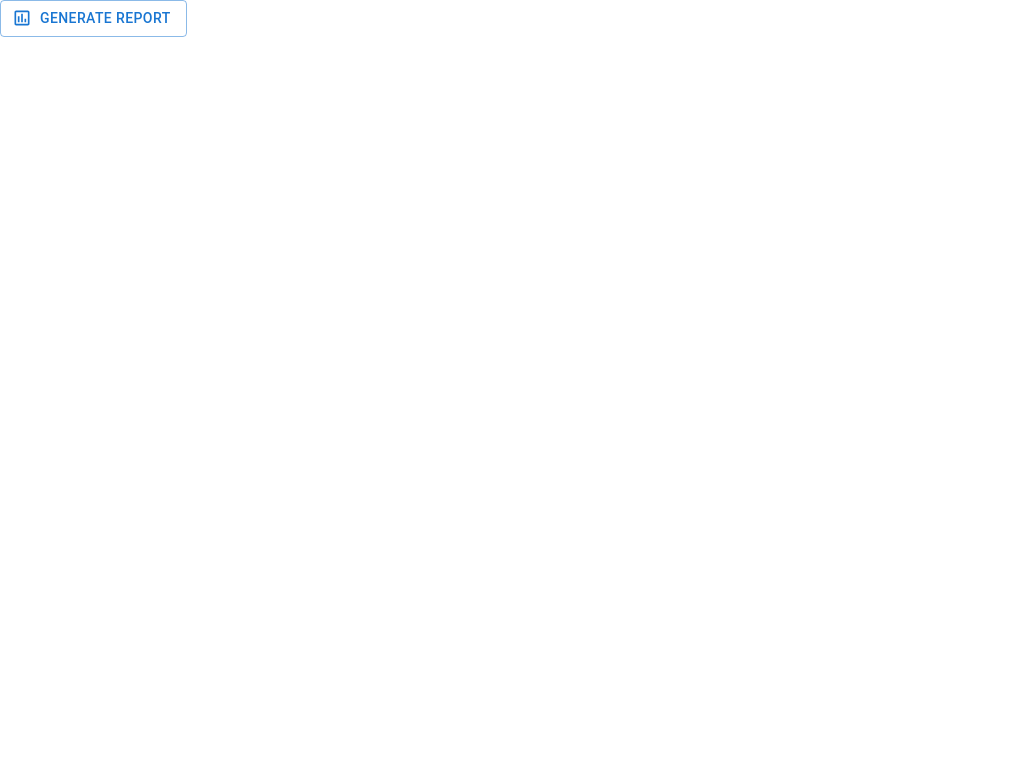
Test: report preview and download workspace › shows a load failure and allows closing without an export
Click the button "Generate report": (93, 18) x1=0 y1=0 x2=187 y2=36
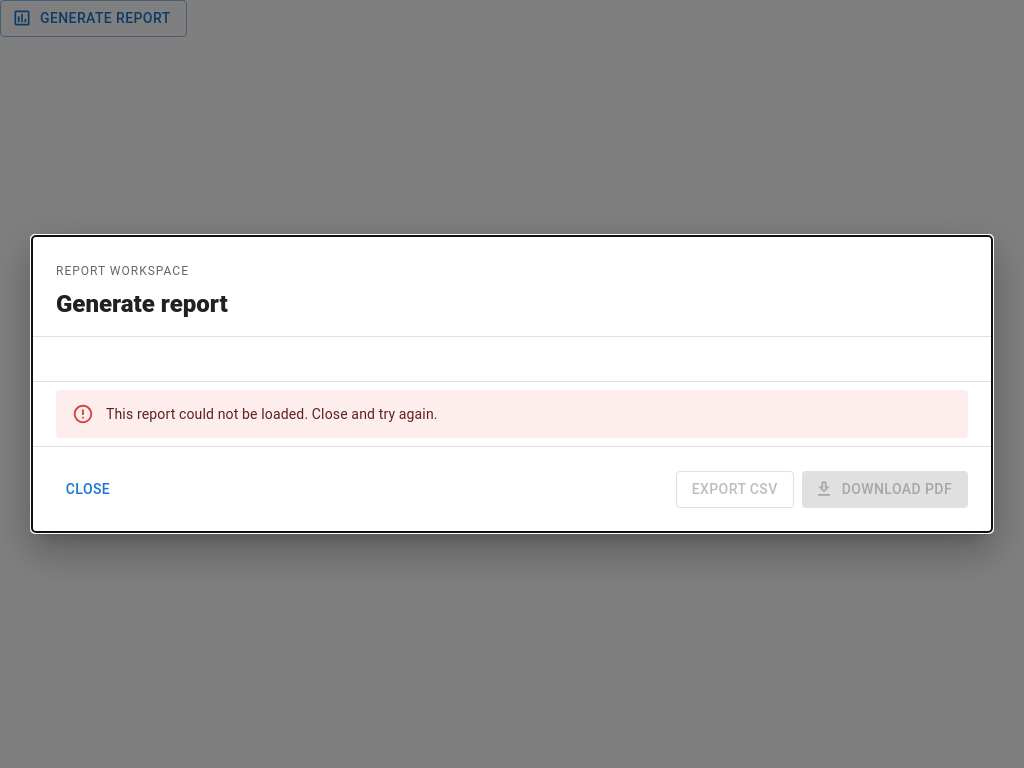
Expected: the text "This report could not be loaded. Close and try again." is shown, x1=106 y1=404 x2=438 y2=424
Expected: the button "Export CSV" is disabled, x1=676 y1=471 x2=794 y2=508
Click the button "Close": (88, 489) x1=56 y1=471 x2=120 y2=508
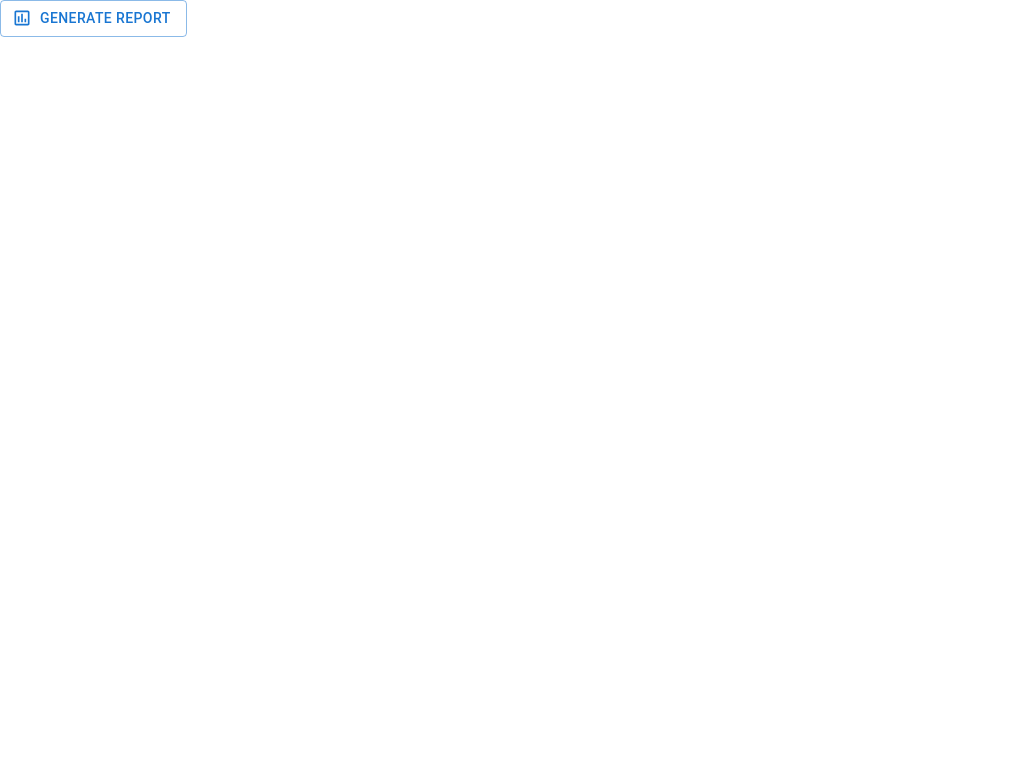
Expected: the dialog is gone
